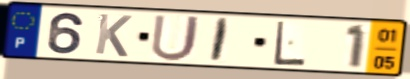1: (343, 24, 367, 70)
6: (46, 11, 86, 56)
I: (207, 17, 232, 65)
K: (92, 12, 134, 59)
L: (273, 19, 308, 67)
U: (148, 13, 203, 63)
